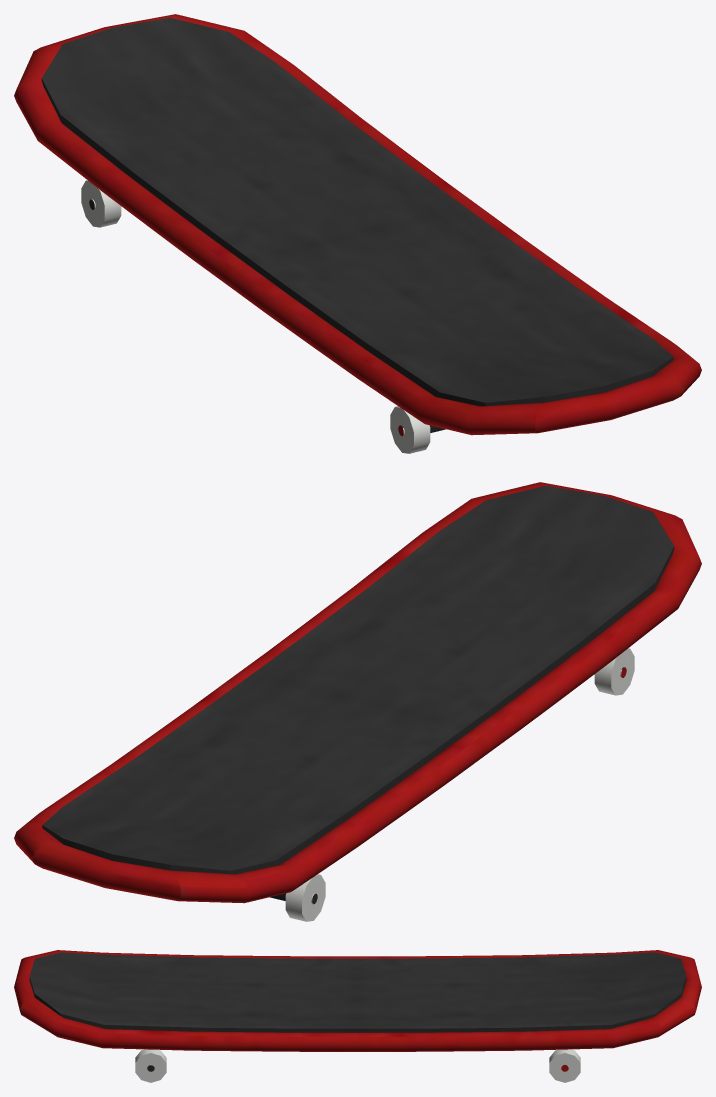
The model's file is Skate_1.fbx.
3 renders of one model, top to bottom at view 1: azimuth 30°, elevation 25°; view 2: azimuth 150°, elevation 25°; view 3: azimuth 270°, elevation 25°, orthographic. The views are drawn at different scales.
Parts seen in each view (by area): view 1: Skate_Base, Skate_Caoutchou, Skate_Roue_2, Skate_Roue_4; view 2: Skate_Base, Skate_Caoutchou, Skate_Roue_4, Skate_Roue_2; view 3: Skate_Base, Skate_Caoutchou, Skate_Roue_1, Skate_Roue_3.
Boxes of the visible parts, bbox=[...] form: Skate_Base: bbox=[41, 17, 673, 406]; Skate_Caoutchou: bbox=[14, 14, 701, 435]; Skate_Roue_2: bbox=[390, 406, 430, 453]; Skate_Roue_4: bbox=[81, 180, 121, 227]; Skate_Base: bbox=[42, 485, 674, 874]; Skate_Caoutchou: bbox=[14, 482, 701, 903]; Skate_Roue_4: bbox=[285, 874, 325, 921]; Skate_Roue_2: bbox=[594, 648, 634, 695]; Skate_Base: bbox=[29, 952, 686, 1032]; Skate_Caoutchou: bbox=[14, 950, 701, 1051]; Skate_Roue_1: bbox=[135, 1049, 166, 1082]; Skate_Roue_3: bbox=[549, 1049, 580, 1082].
Bounding box in the file's own units: 26.66 × 10.35 × 91.08.
